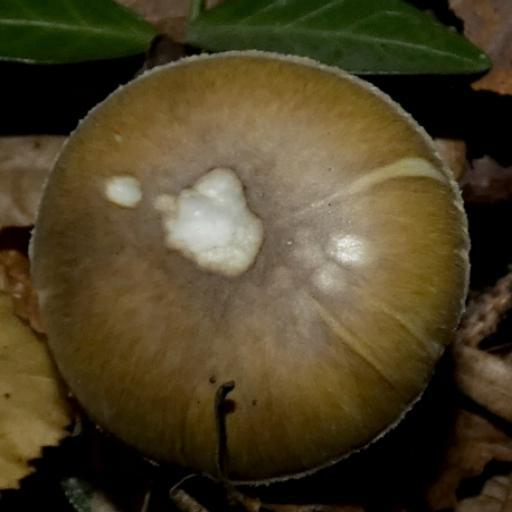mushroom: (19, 38, 479, 492)
